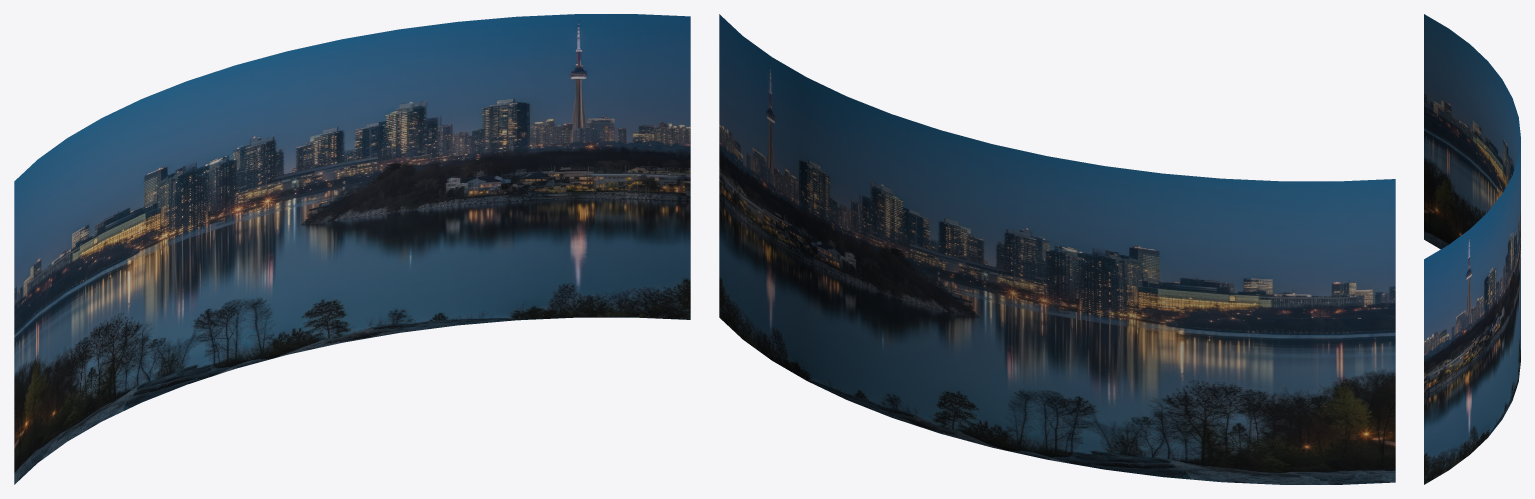
3 views of the same model, side by side, from view 1: azimuth 30°, elevation 25°; view 2: azimuth 150°, elevation 25°; view 3: azimuth 270°, elevation 25° (orthographic). The views are drawn at different scales.
Visible parts, largest first — view 1: Plane001; view 2: Plane001; view 3: Plane001.
Boxes of the visible parts, x1,y1,x2,y2 form: Plane001: (14, 14, 690, 484); Plane001: (719, 14, 1395, 484); Plane001: (1424, 14, 1520, 484).
Size of the model in its own units: 67 by 28.74 by 11.17.
Materials: 1 (1 with a texture image).
